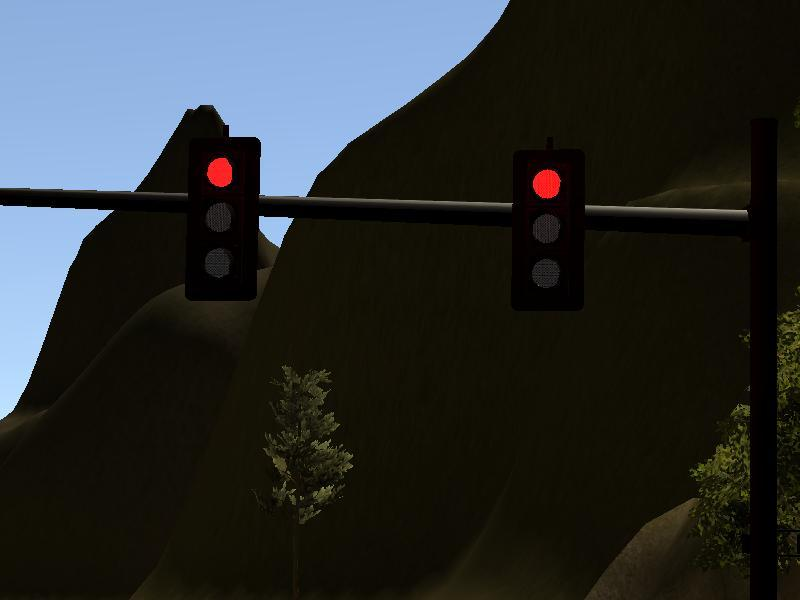Red: (509, 150, 585, 313), (185, 136, 261, 299)
